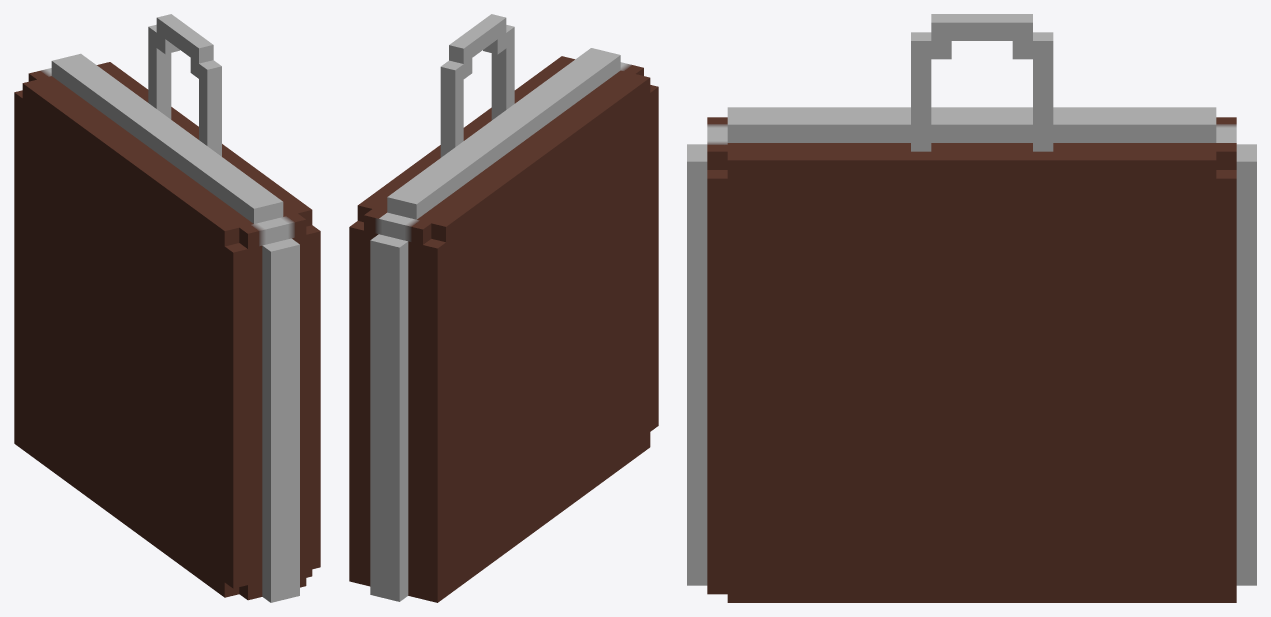
The model's file is bag.dae.
3 views of the same model, side by side, from view 1: azimuth 30°, elevation 25°; view 2: azimuth 150°, elevation 25°; view 3: azimuth 270°, elevation 25° (orthographic). The views are drawn at different scales.
Visible parts, largest first — view 1: pl0; view 2: pl0; view 3: pl0.
Boxes of the visible parts, x1,y1,x2,y2 form: pl0: [14, 14, 320, 602]; pl0: [349, 14, 658, 602]; pl0: [687, 14, 1256, 602].
Bounding box in the file's own units: 6 × 28 × 31.
